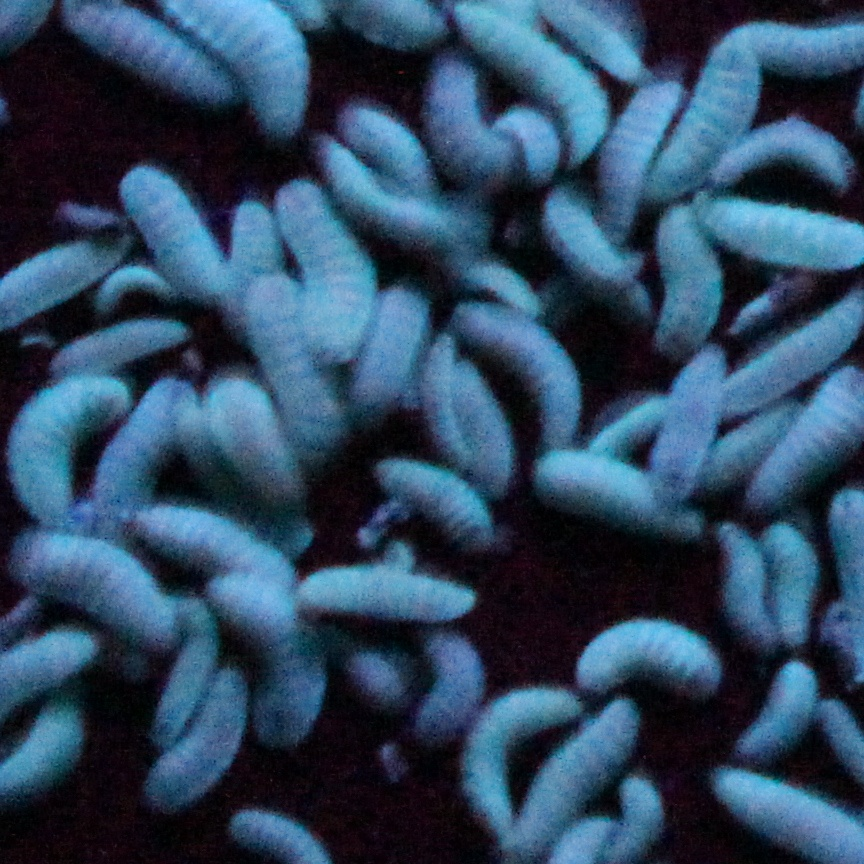larve: (506, 698, 654, 864), (517, 696, 647, 864), (4, 366, 133, 525), (454, 300, 592, 448), (647, 30, 770, 189), (274, 178, 376, 366), (463, 682, 581, 837), (315, 135, 472, 248), (245, 278, 347, 444), (124, 160, 231, 310), (90, 369, 199, 516), (642, 348, 733, 505), (597, 82, 685, 241), (206, 380, 317, 505), (535, 189, 649, 303), (126, 500, 297, 575), (147, 671, 242, 805), (420, 346, 508, 487), (710, 114, 860, 194), (576, 614, 722, 696), (347, 287, 442, 412), (431, 50, 522, 180), (651, 207, 722, 350), (381, 450, 495, 537), (297, 571, 490, 621), (333, 96, 438, 185), (156, 594, 213, 753), (692, 405, 804, 485), (535, 448, 665, 516), (45, 312, 185, 375), (758, 516, 817, 646), (742, 666, 820, 762), (720, 523, 774, 641), (460, 248, 540, 319), (215, 196, 285, 271), (579, 407, 663, 464), (499, 110, 565, 180), (97, 262, 172, 310)
